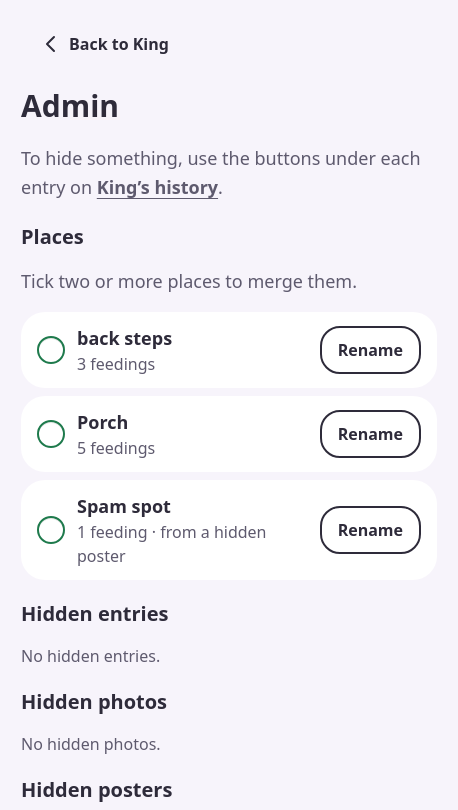
Test: AdminPage — merging places › says when the new name is taken, tied to the field
expect the list named "Places" is shown: met, box [21, 312, 437, 580]
Step 1. Click the checkbox named "Select Porch for merging" → coordinates (51, 434), box [37, 420, 65, 448]
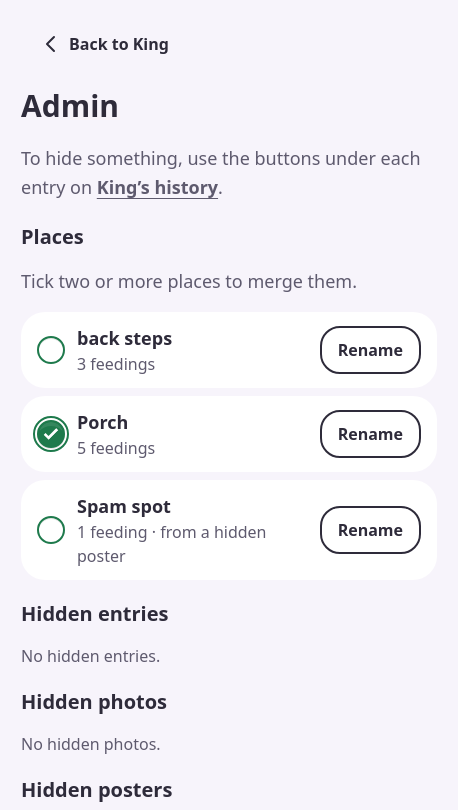
Step 2. Click the checkbox named "Select back steps for merging" → coordinates (51, 350), box [37, 336, 65, 364]
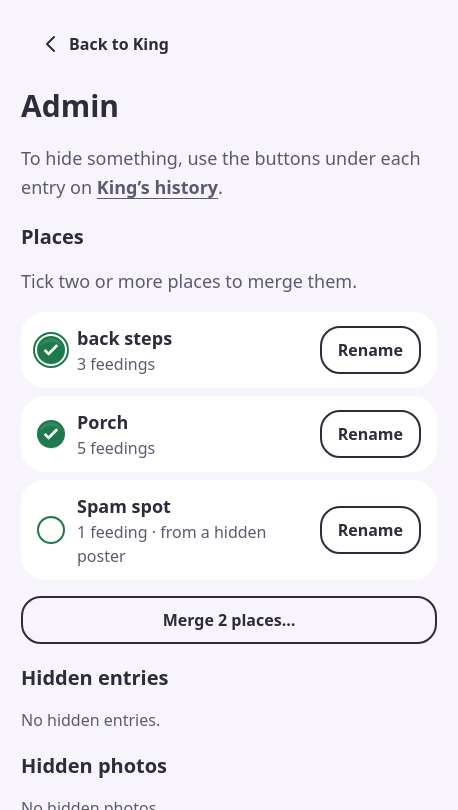
Step 3. Click the button "Merge 2 places…" → coordinates (229, 620), box [21, 596, 437, 644]
(page scrolled)
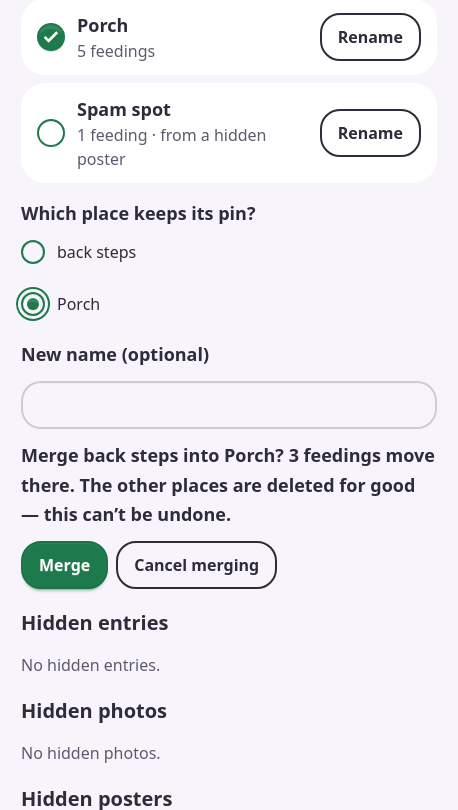
Step 4. Type "Spam spot" into the field labelled "New name (optional)" → coordinates (229, 405), box [21, 381, 437, 429]
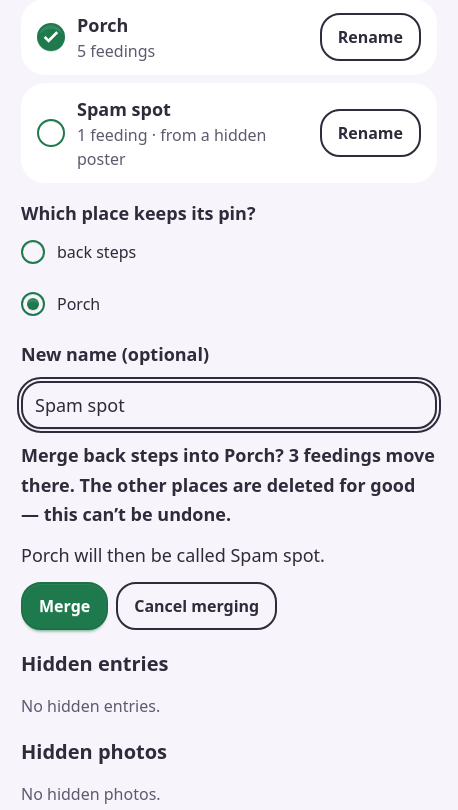
Step 5. Click the button "Merge" → coordinates (65, 606), box [21, 582, 108, 630]
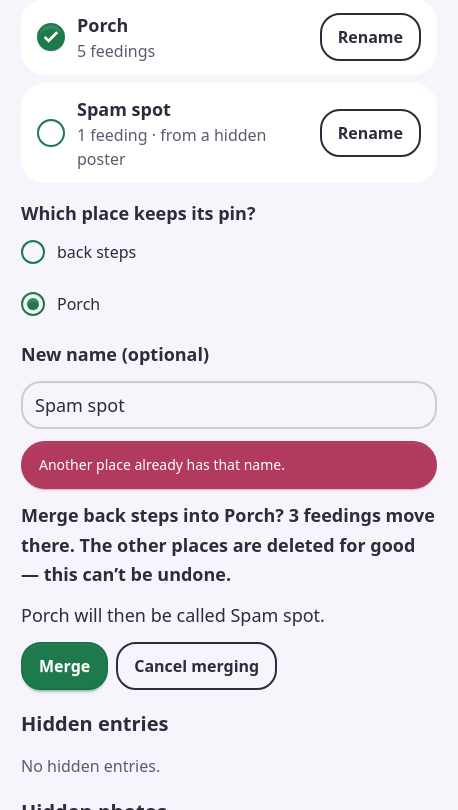
expect the message reads "Another place already has that name.": met, box [39, 455, 285, 474]
